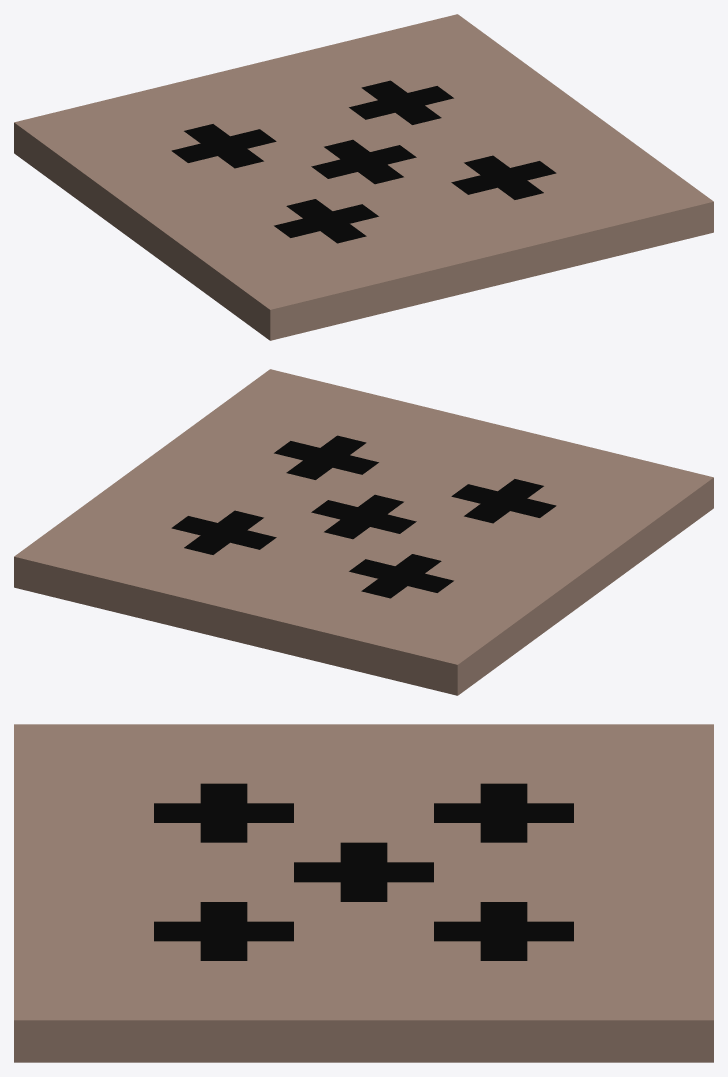
File: dungeon_a_b_ground_a_b.obj
3 renders of one model, top to bottom at view 1: azimuth 30°, elevation 25°; view 2: azimuth 150°, elevation 25°; view 3: azimuth 270°, elevation 25°, orthographic. The views are drawn at different scales.
Size of the model in its own units: 1.5 by 0.1 by 1.5.
Materials: 1 (1 with a texture image).
